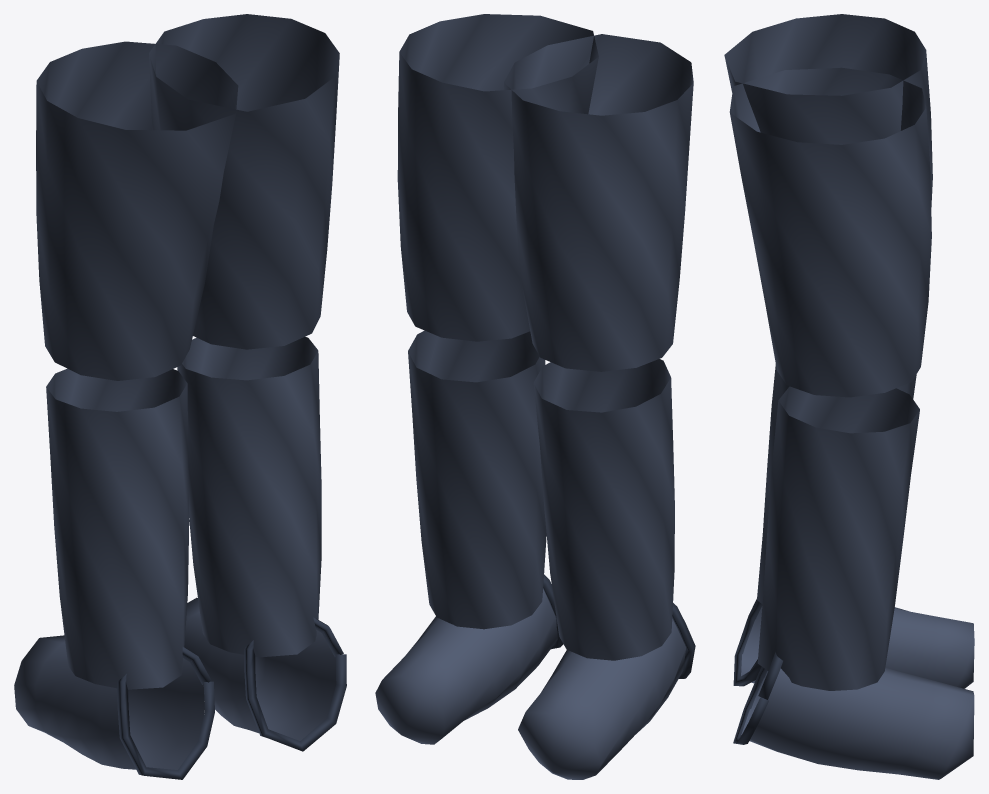
File: lead_greaves.glb
3 renders of one model, left to right at view 1: azimuth 30°, elevation 25°; view 2: azimuth 150°, elevation 25°; view 3: azimuth 270°, elevation 25°, orthographic. The views are drawn at different scales.
Parts seen in each view (by area): view 1: lead_greaves_cuisse.L; view 2: lead_greaves_cuisse.L; view 3: lead_greaves_cuisse.L.
Boxes of the visible parts, box(x1,y1,x2,y2) form: lead_greaves_cuisse.L: box(14, 14, 346, 779); lead_greaves_cuisse.L: box(375, 14, 695, 779); lead_greaves_cuisse.L: box(724, 14, 974, 779).
Size of the model in its own units: 0.403 by 0.9485 by 0.3253.
